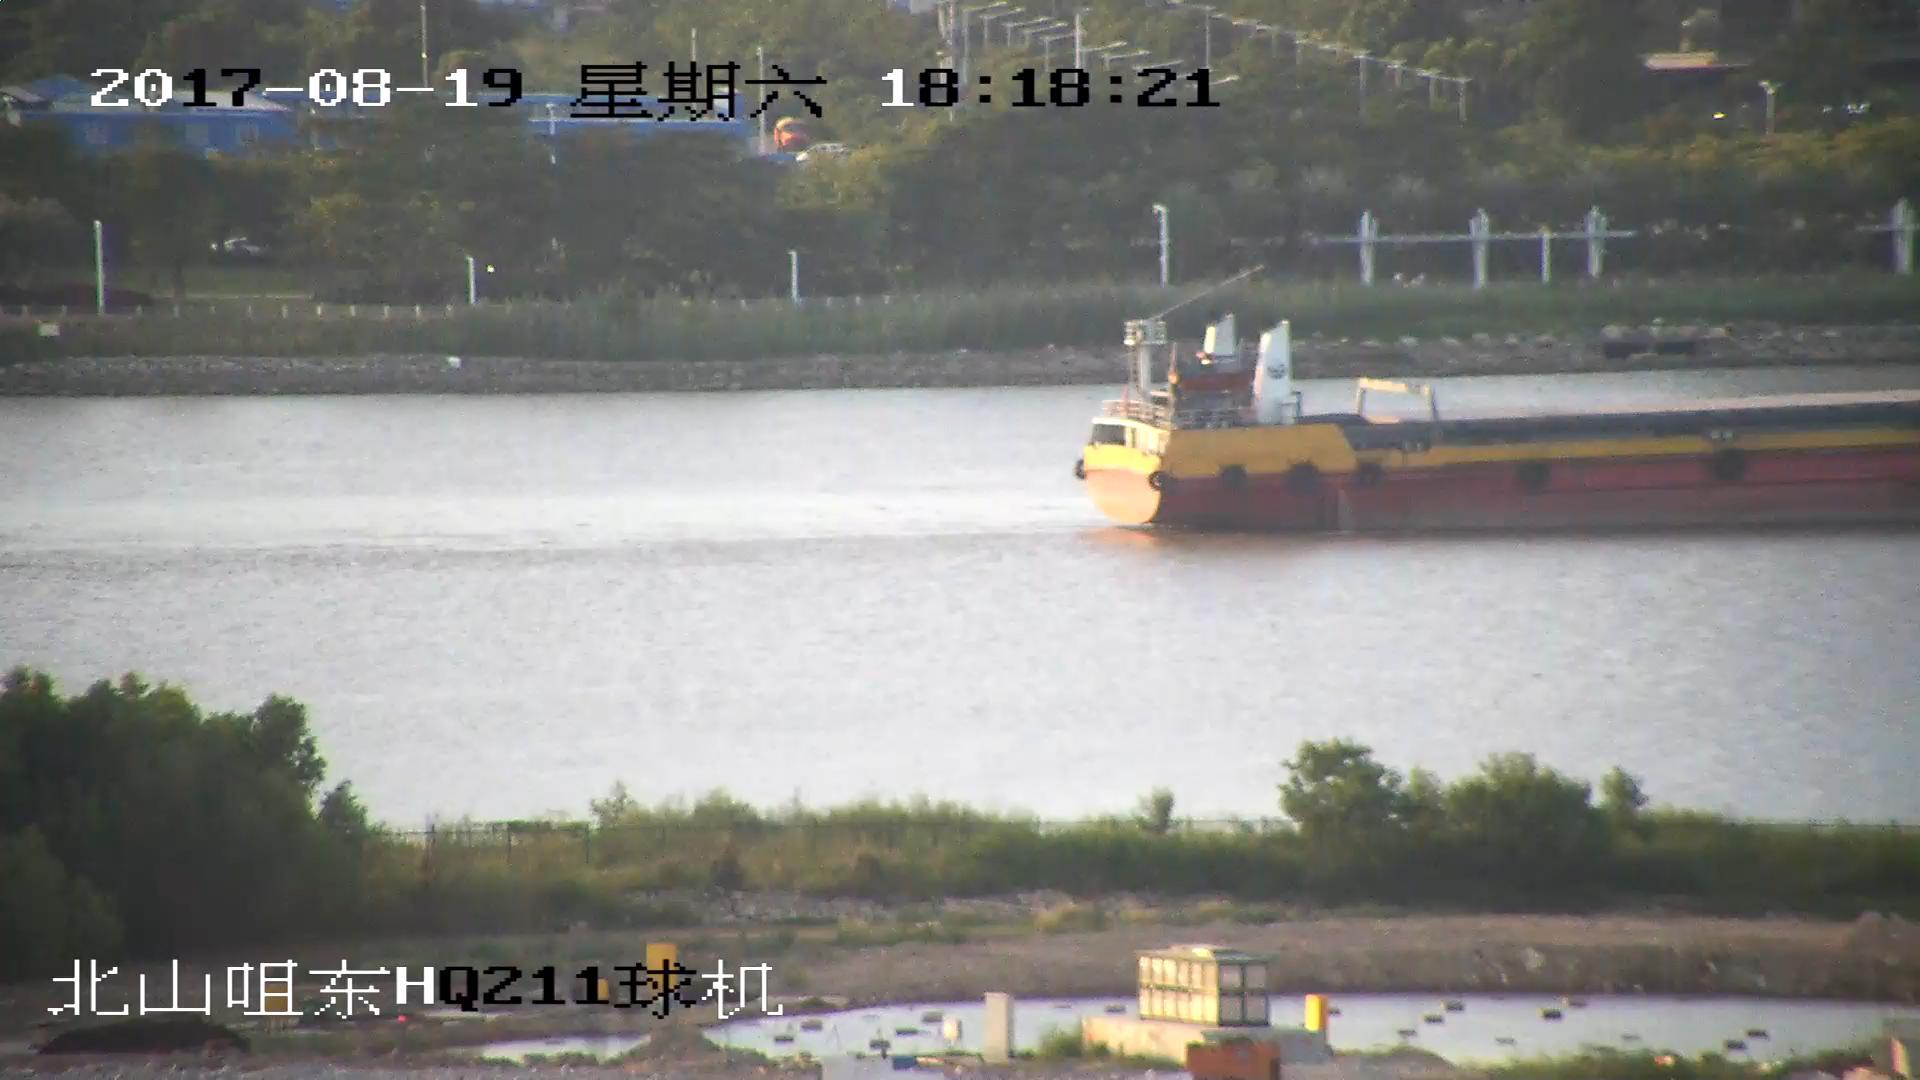Ship: (1077, 316, 1920, 534)
